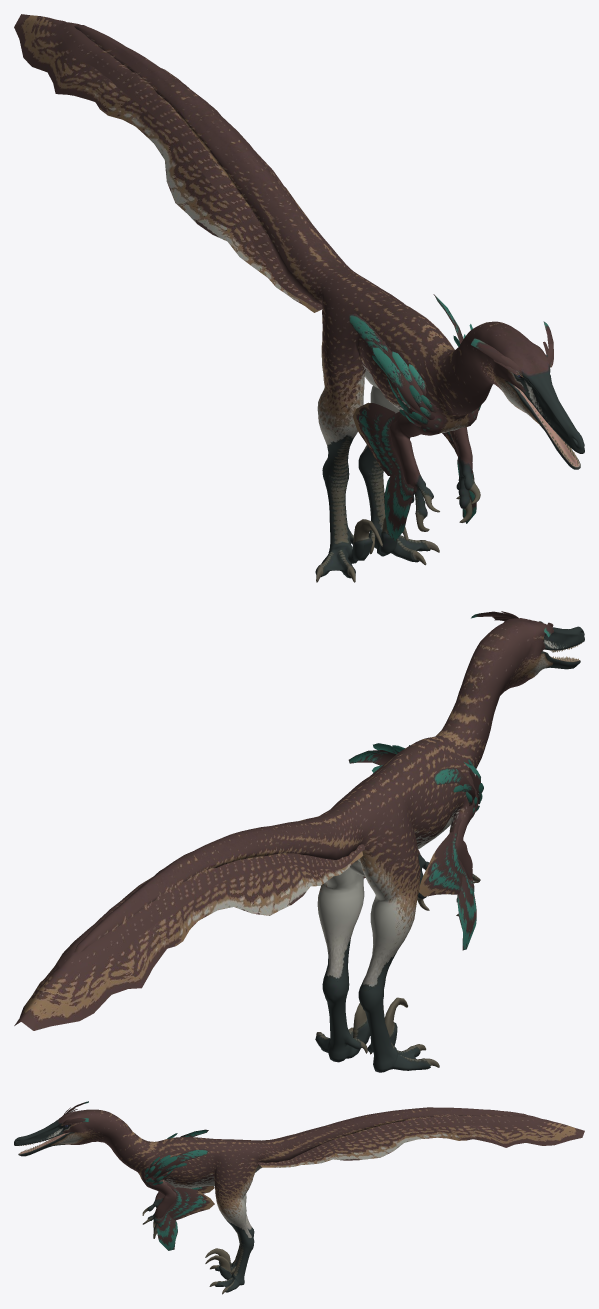
File: Austroraptor.glb
The picture shows the model from 3 angles, top to bottom: view 1: azimuth 30°, elevation 25°; view 2: azimuth 150°, elevation 25°; view 3: azimuth 270°, elevation 25°; orthographic projection. The views are drawn at different scales.
Visible parts, largest first — view 1: DW_Austroraptor_Adulto_Mayor_mesh; view 2: DW_Austroraptor_Adulto_Mayor_mesh; view 3: DW_Austroraptor_Adulto_Mayor_mesh.
Part boxes in pixels (left/top/right/bottom): DW_Austroraptor_Adulto_Mayor_mesh: left=14, top=14, right=584, bottom=582; DW_Austroraptor_Adulto_Mayor_mesh: left=14, top=611, right=584, bottom=1072; DW_Austroraptor_Adulto_Mayor_mesh: left=14, top=1101, right=584, bottom=1294.
Size of the model in its own units: 0.1265 by 0.3329 by 1.
3 materials, 3 textured.
